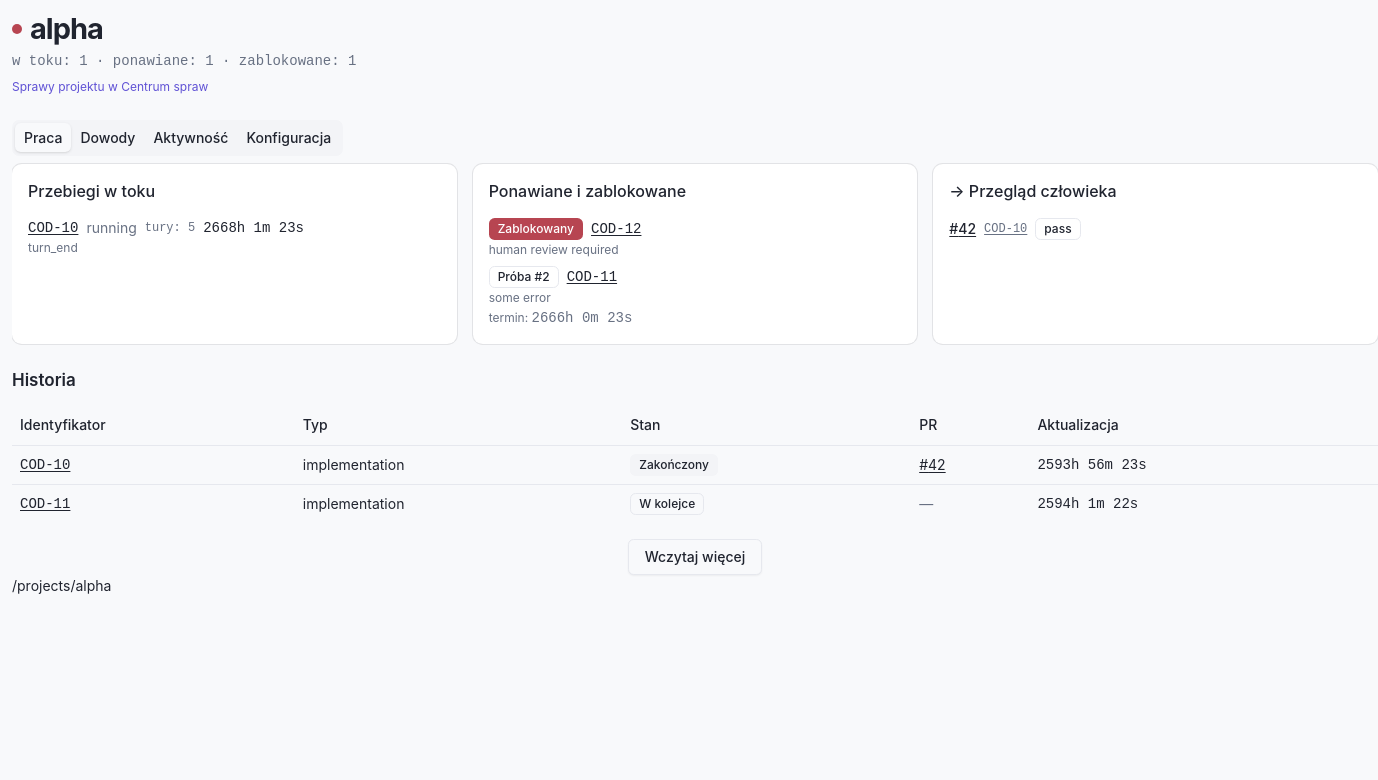
Test: ProjectWorkspacePage › clicking the Evidence tab updates the URL to include ?tab=evidence
Expected: the heading "alpha" is shown, [30,12,103,47]
Click the tab "Dowody" at (108, 138), box [72,123,144,152]
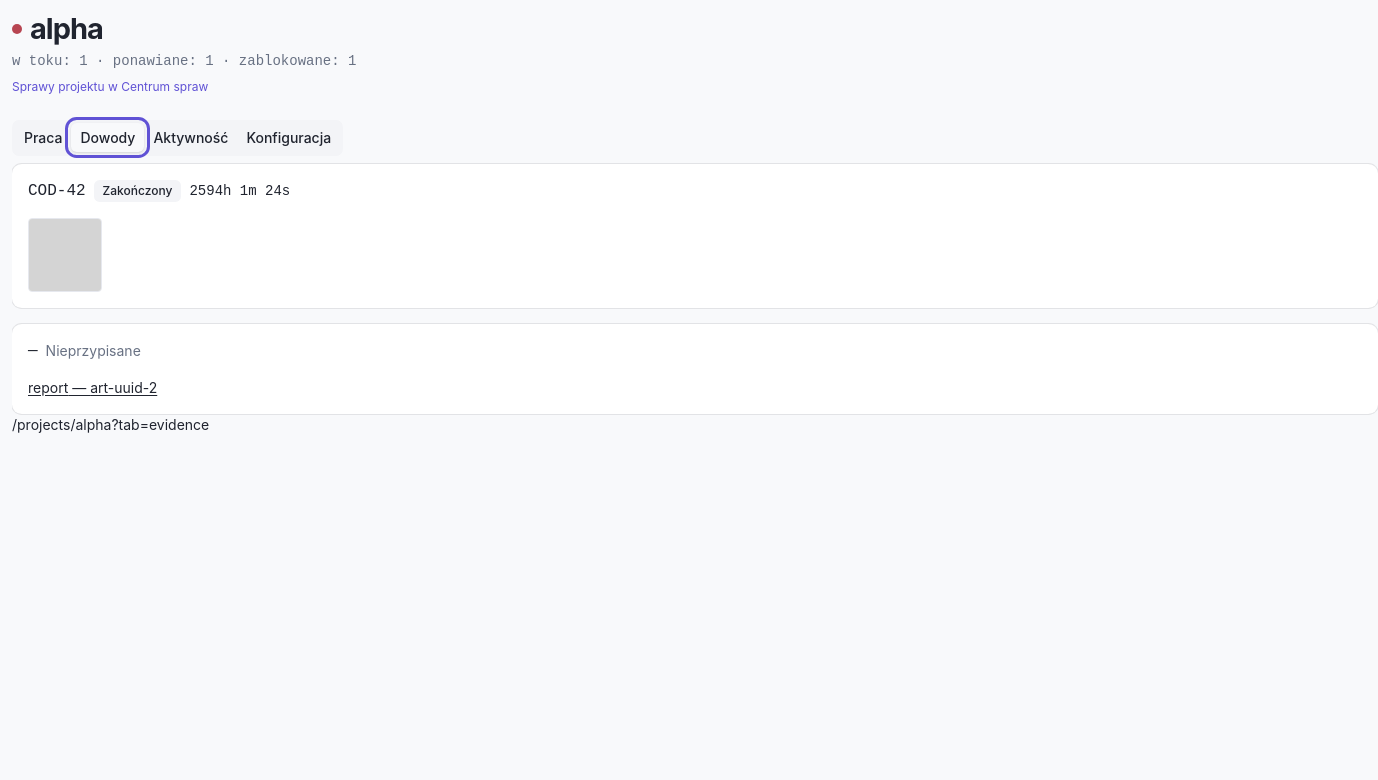
Expected: the text with test id "location" shows "tab=evidence", [112,416,209,433]
